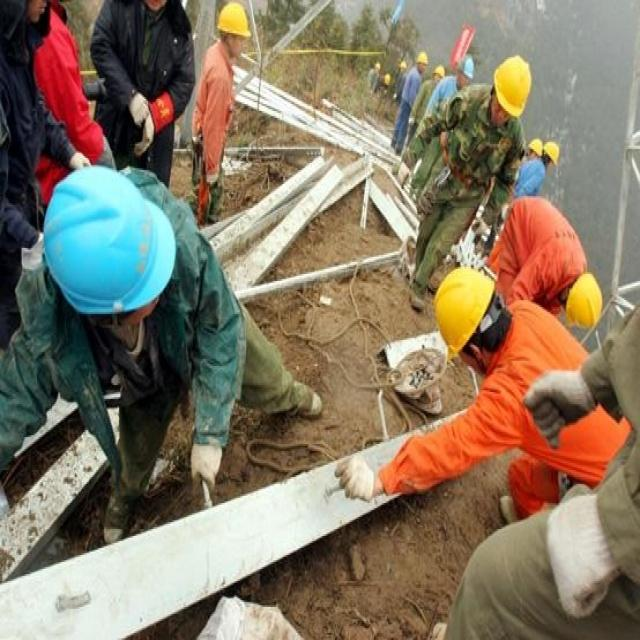helmet: (39, 216, 176, 447), (430, 349, 509, 502), (490, 72, 532, 169), (561, 353, 604, 439), (214, 2, 251, 78), (455, 72, 475, 120), (539, 185, 559, 227), (528, 177, 543, 215), (415, 66, 429, 98), (432, 87, 445, 112)
